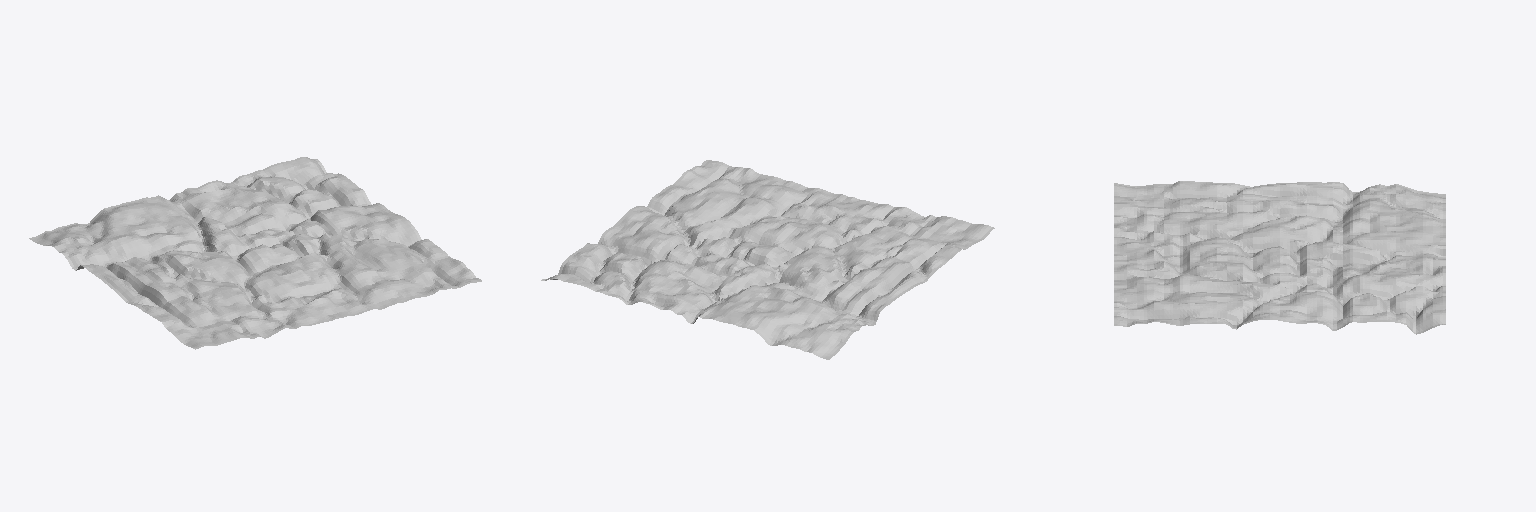
File: ground.obj
The picture shows the model from 3 angles: view 1: azimuth 30°, elevation 25°; view 2: azimuth 150°, elevation 25°; view 3: azimuth 270°, elevation 25°; orthographic projection.
Parts seen in each view (by area): view 1: initialShadingGroup Relief Mesh; view 2: initialShadingGroup Relief Mesh; view 3: initialShadingGroup Relief Mesh.
Boxes of the visible parts, x1,y1,x2,y2 form: initialShadingGroup Relief Mesh: [29, 157, 481, 349]; initialShadingGroup Relief Mesh: [541, 160, 994, 359]; initialShadingGroup Relief Mesh: [1114, 181, 1445, 334].
Bounding box in the file's own units: 600 × 33 × 600.